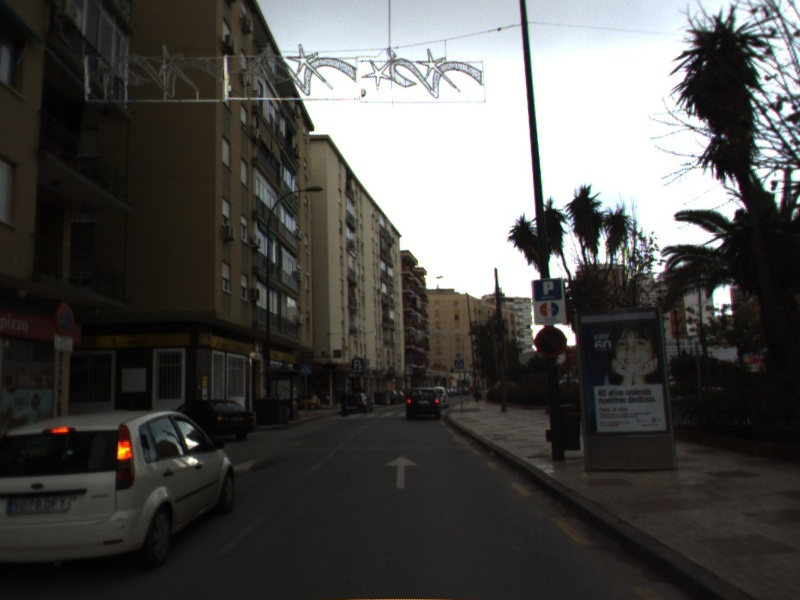STRAIGHT: (381, 452, 422, 491)
